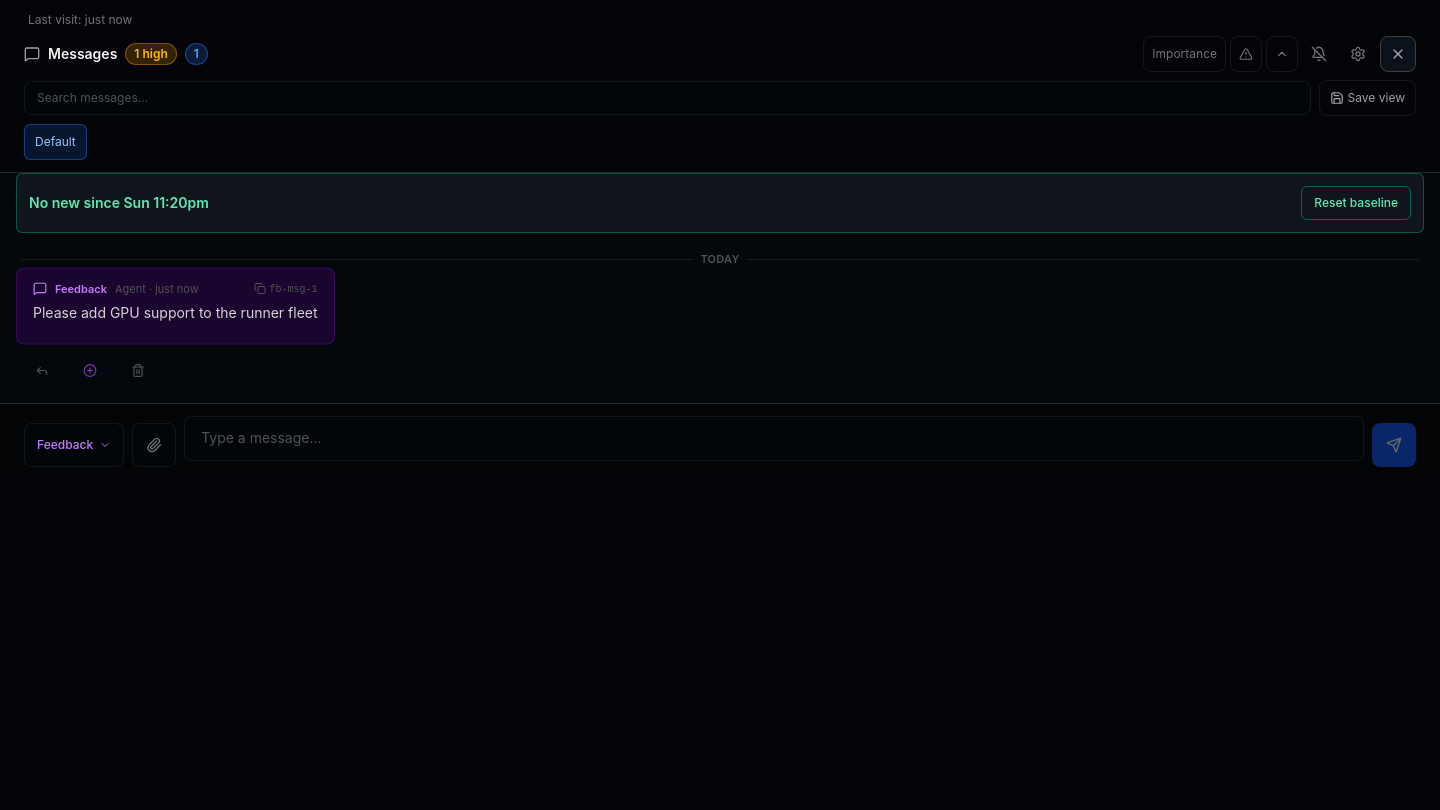
Test: MessagesPanel convert-to-direction modal › handleOpenConvertModal seeds the modal with the message content
This screenshot has width=1440, height=810.
What coordinates should you click on to do the following:
click the button named "Create Direction"
I would click on:
 (90, 371)
Its box is [68,349,112,393].
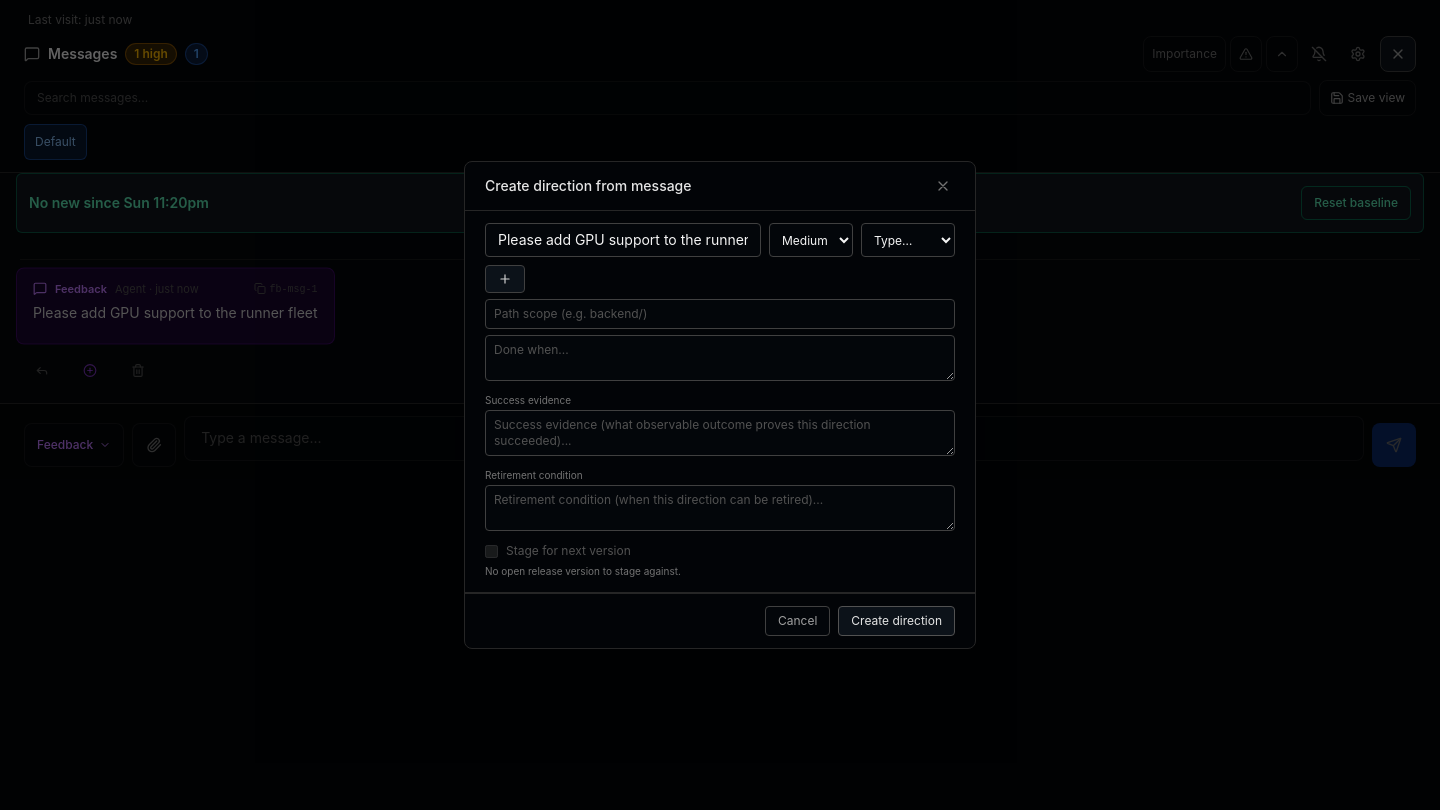
Result: the dialog is shown
Result: the dialog shows "Create direction from message" at [485,177,692,194]
Result: the field with placeholder "New direction..." holds "Please add GPU support to the runner fleet" at [485,223,761,257]
